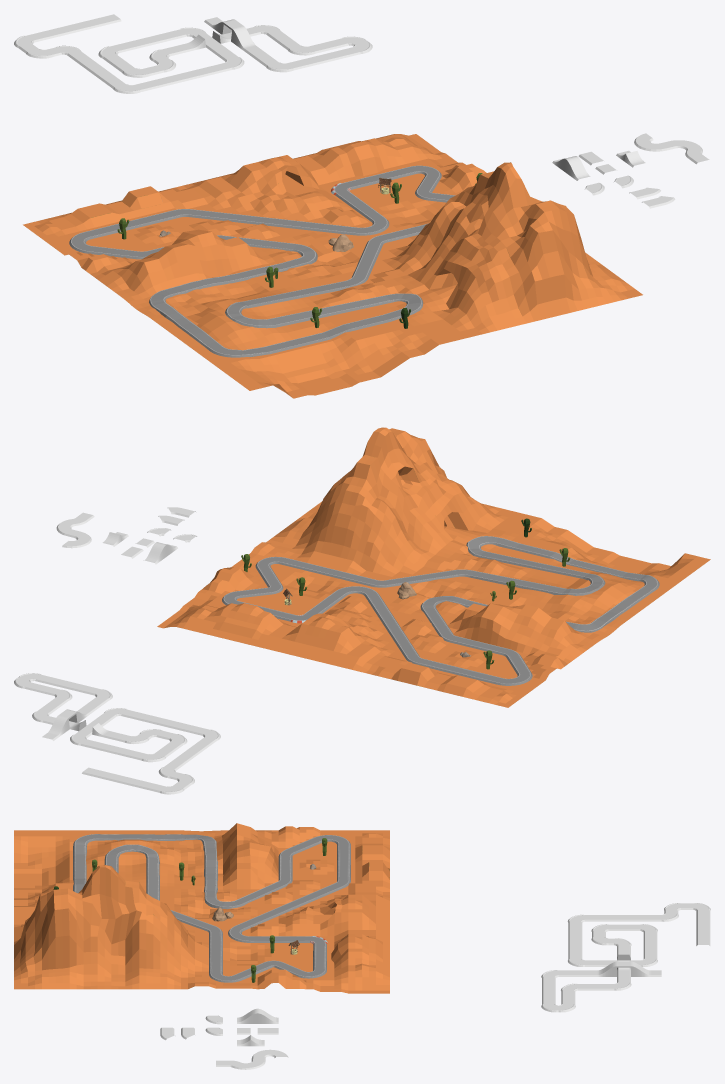
The picture shows the model from 3 angles, top to bottom: view 1: azimuth 30°, elevation 25°; view 2: azimuth 150°, elevation 25°; view 3: azimuth 270°, elevation 25°; orthographic projection. The views are drawn at different scales.
Visible parts, largest first — view 1: Plane.001, Plane, StraightBlockTemp.012, StraightBlockTemp.018, StraightBlockTemp.001, StraightBlockTemp.022, StraightBlockTemp.013, StraightBlockTemp.009, StraightBlockTemp.017; view 2: Plane.001, Plane, StraightBlockTemp.012, StraightBlockTemp.018, StraightBlockTemp.001, StraightBlockTemp.022; view 3: Plane.001, Plane, StraightBlockTemp.018, StraightBlockTemp.012, StraightBlockTemp.001, StraightBlockTemp.013, StraightBlockTemp.022, StraightBlockTemp.009.
Boxes of the visible parts, left/top/right/bottom form: Plane.001: left=23, top=134, right=642, bottom=398; Plane: left=69, top=165, right=455, bottom=357; StraightBlockTemp.012: left=103, top=44, right=191, bottom=77; StraightBlockTemp.018: left=210, top=19, right=278, bottom=66; StraightBlockTemp.001: left=634, top=133, right=709, bottom=164; StraightBlockTemp.022: left=27, top=14, right=121, bottom=42; StraightBlockTemp.013: left=67, top=50, right=125, bottom=88; StraightBlockTemp.009: left=111, top=29, right=186, bottom=52; StraightBlockTemp.017: left=286, top=47, right=360, bottom=70; Plane.001: left=157, top=427, right=710, bottom=707; Plane: left=222, top=536, right=659, bottom=685; StraightBlockTemp.012: left=105, top=729, right=187, bottom=757; StraightBlockTemp.018: left=47, top=696, right=108, bottom=737; StraightBlockTemp.001: left=56, top=512, right=94, bottom=548; StraightBlockTemp.022: left=82, top=767, right=165, bottom=792; Plane.001: left=14, top=823, right=389, bottom=993; Plane: left=73, top=834, right=350, bottom=982; StraightBlockTemp.018: left=558, top=961, right=651, bottom=976; StraightBlockTemp.012: left=591, top=924, right=640, bottom=954; StraightBlockTemp.001: left=216, top=1049, right=288, bottom=1069; StraightBlockTemp.013: left=585, top=915, right=661, bottom=921; StraightBlockTemp.022: left=696, top=909, right=710, bottom=945; StraightBlockTemp.009: left=643, top=931, right=657, bottom=959.
Size of the model in its own units: 40496 by 8555 by 50043.
